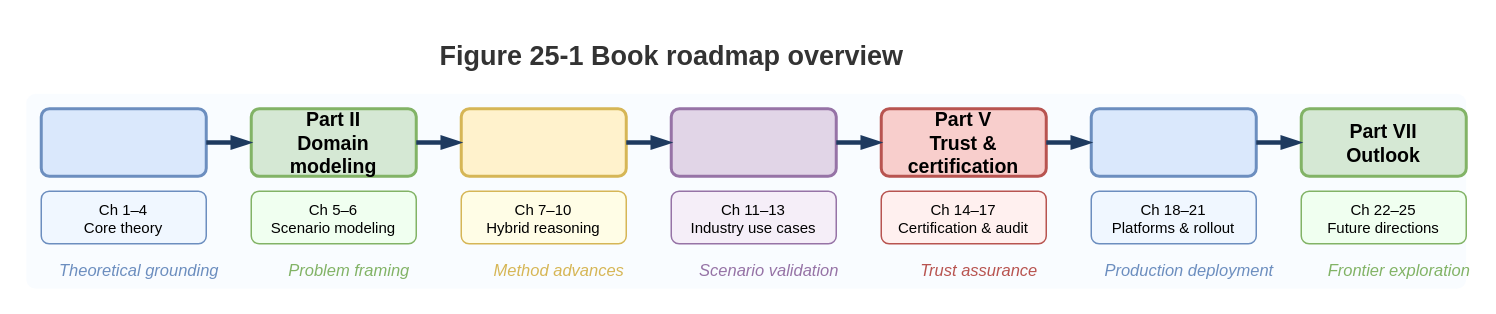
This 1496x314 diagram has some shape labels left out. The centre of each missing label's shape, as x and y in pixels:
Part I Foundations: point 123,141
Part III Methodology: point 543,141
Part IV Application models: point 753,141
Part VI System deployment: point 1173,141
